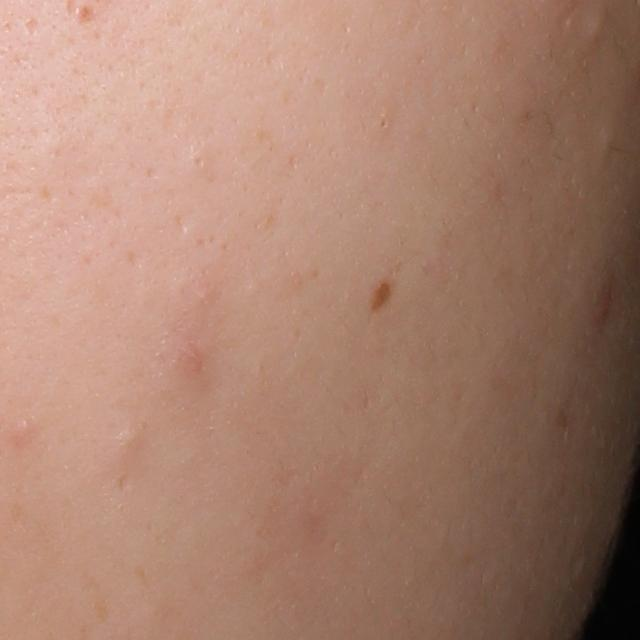comedo: (579, 1, 615, 51), (112, 422, 147, 455), (14, 413, 42, 439), (190, 147, 212, 173), (374, 112, 391, 135)
nevus: (369, 276, 397, 313)
